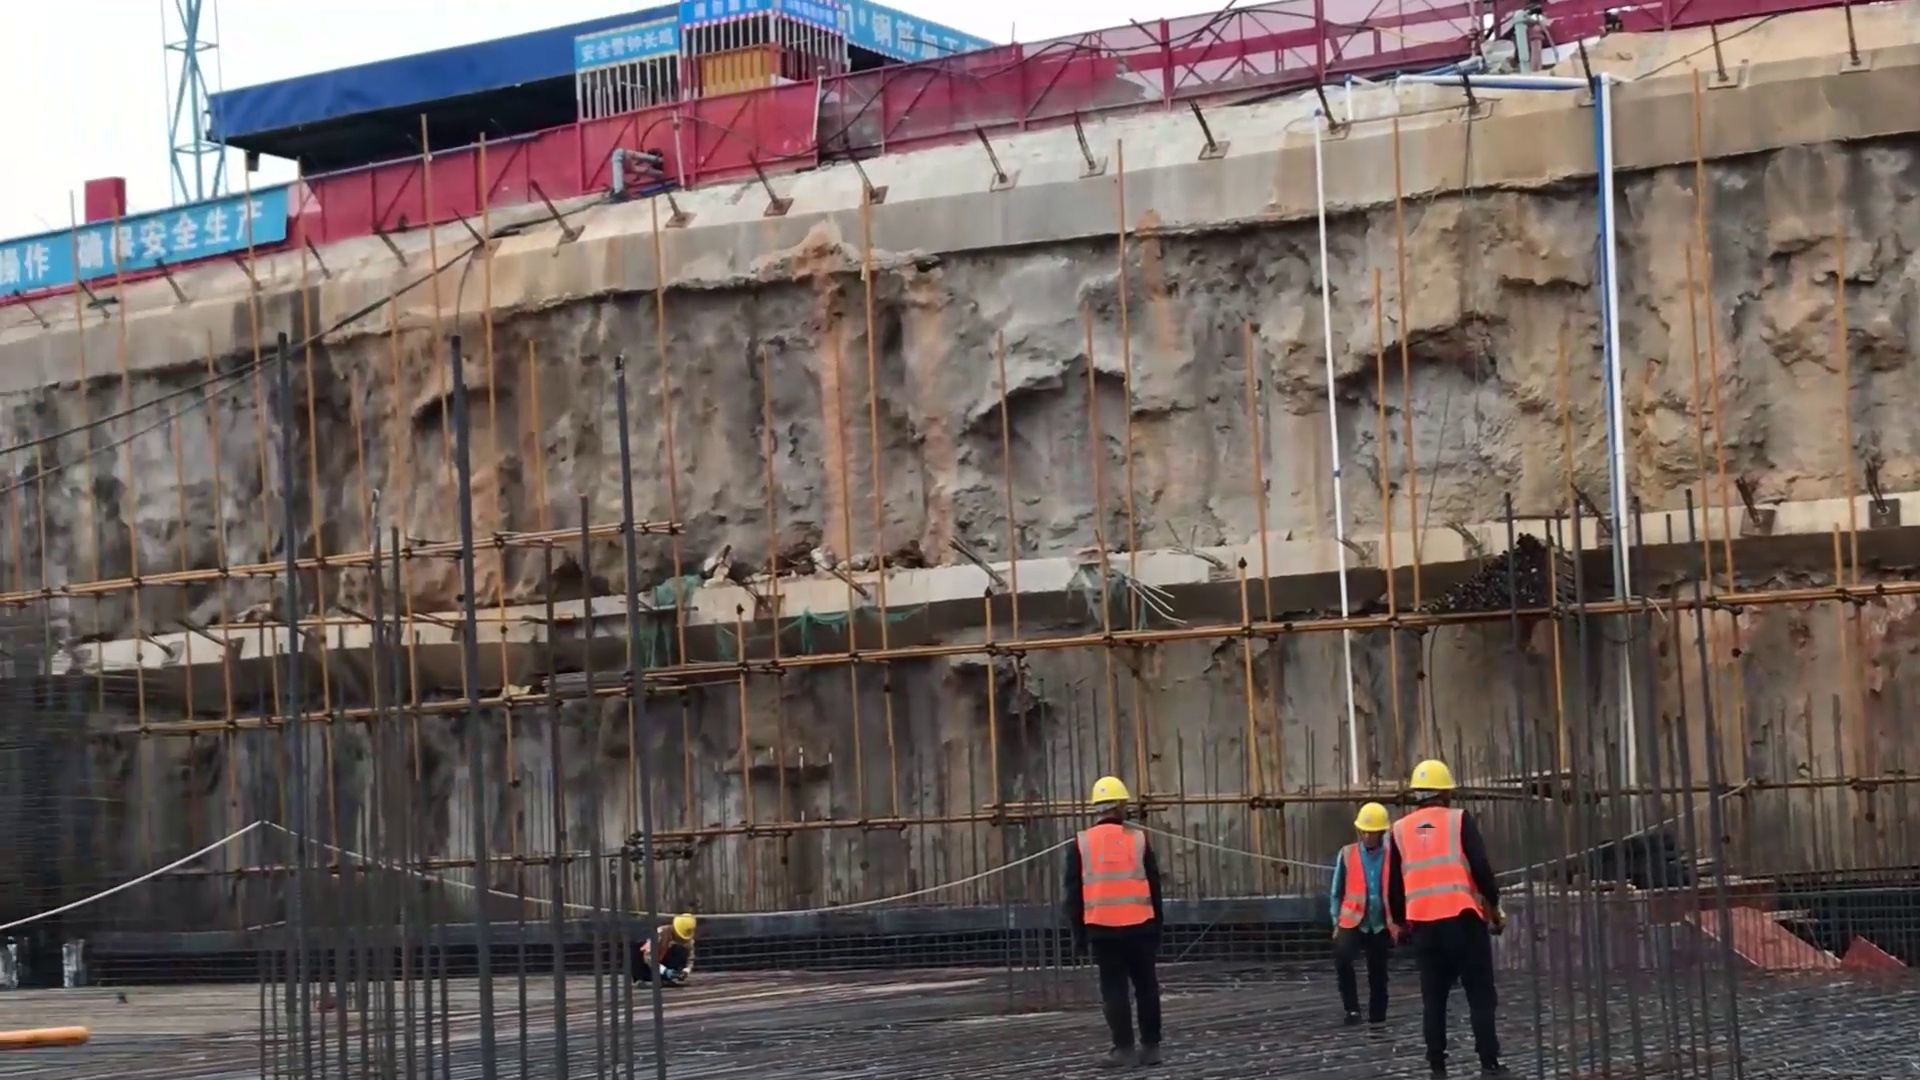fence: (301, 102, 904, 248), (951, 4, 1668, 123)
helmet: (1079, 770, 1139, 812), (1402, 761, 1461, 797), (1348, 800, 1397, 841), (671, 912, 702, 939)
person: (1396, 753, 1508, 1080), (1063, 776, 1179, 1074), (1316, 799, 1405, 1031), (632, 910, 712, 988)
slogan: (1, 197, 356, 287), (556, 25, 691, 77), (691, 1, 782, 43), (786, 1, 852, 55)
vest: (1066, 817, 1168, 940), (1400, 803, 1496, 934), (1335, 838, 1400, 935)
